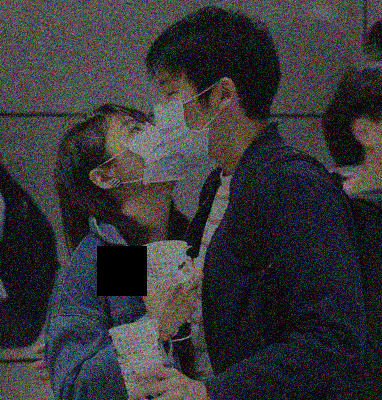with_mask: (106, 116, 190, 183), (152, 77, 218, 152)
